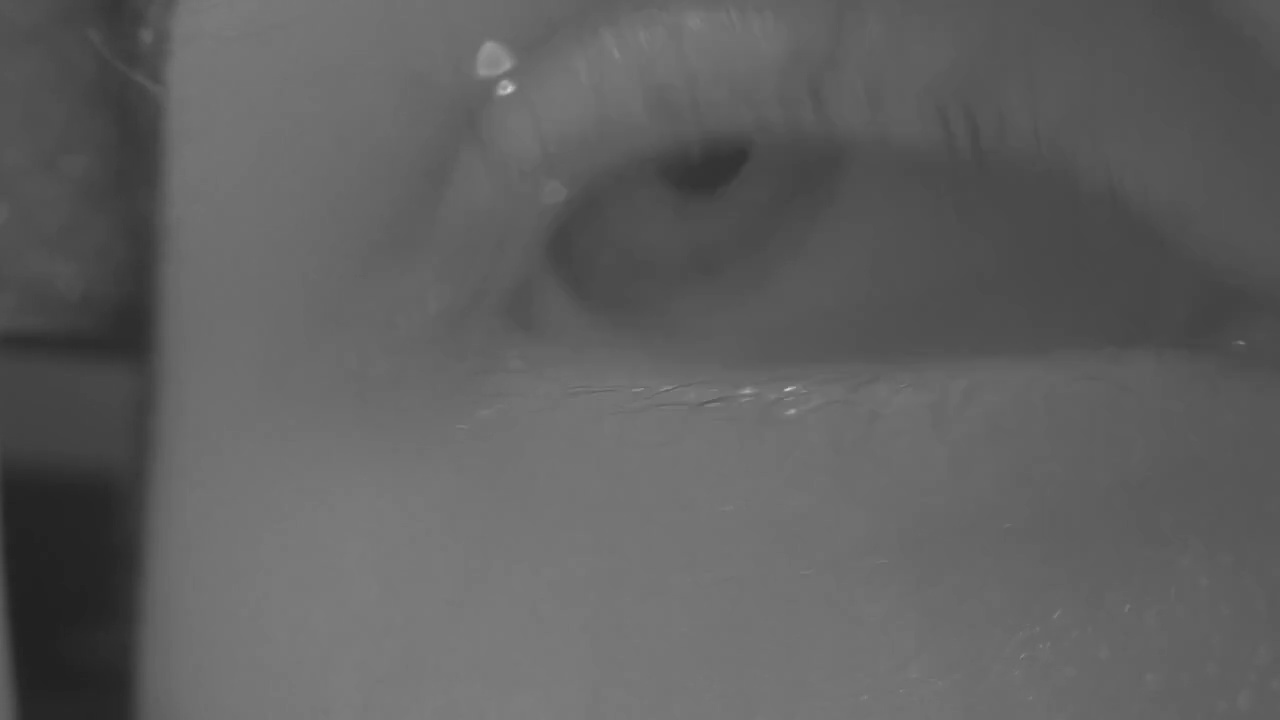pupil: (650, 134, 748, 190)
